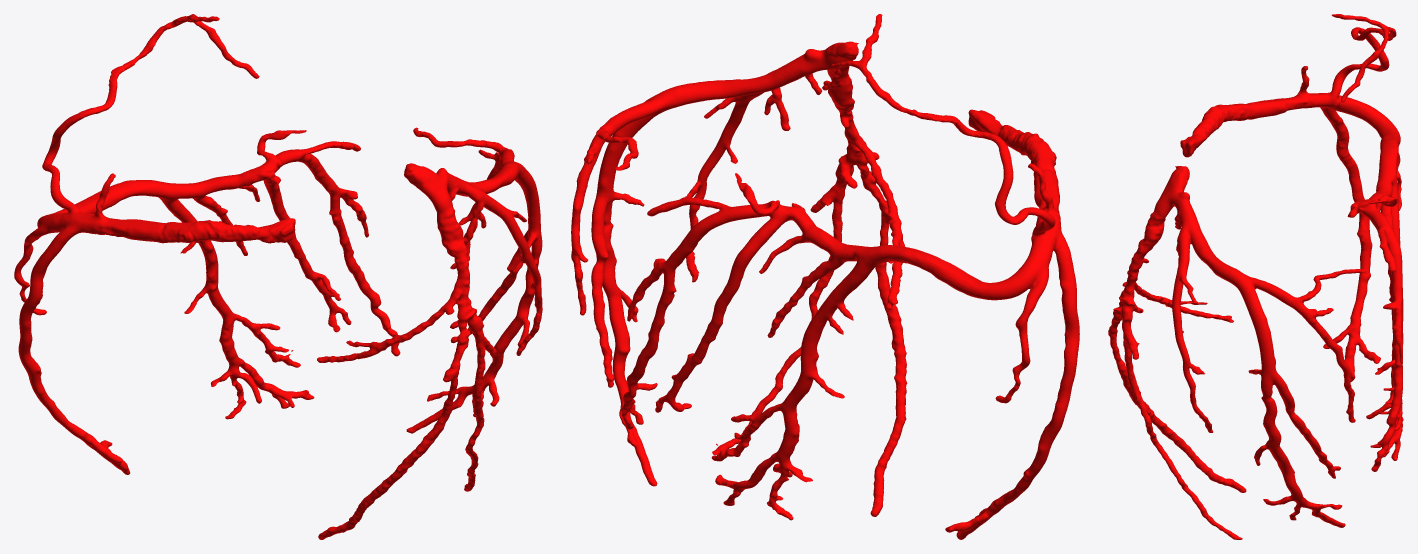
Rendered from heart0088_coronary_arteries.glb.
3 renders of one model, left to right at view 1: azimuth 30°, elevation 25°; view 2: azimuth 150°, elevation 25°; view 3: azimuth 270°, elevation 25°, orthographic. The views are drawn at different scales.
Parts seen in each view (by area): view 1: Object_2, Object_3, Object_4; view 2: Object_3, Object_2, Object_4; view 3: Object_2, Object_3, Object_4.
Part boxes in pixels (left/top/right/bottom): Object_2: left=14, top=14, right=541, bottom=531; Object_3: left=18, top=139, right=542, bottom=539; Object_4: left=14, top=127, right=521, bottom=352; Object_3: left=571, top=85, right=1072, bottom=539; Object_2: left=572, top=14, right=1079, bottom=512; Object_4: left=615, top=41, right=1079, bottom=415; Object_2: left=1108, top=14, right=1403, bottom=528; Object_3: left=1110, top=160, right=1403, bottom=539; Object_4: left=1134, top=108, right=1401, bottom=286.
Size of the model in its own units: 140 by 141 by 83.04.
